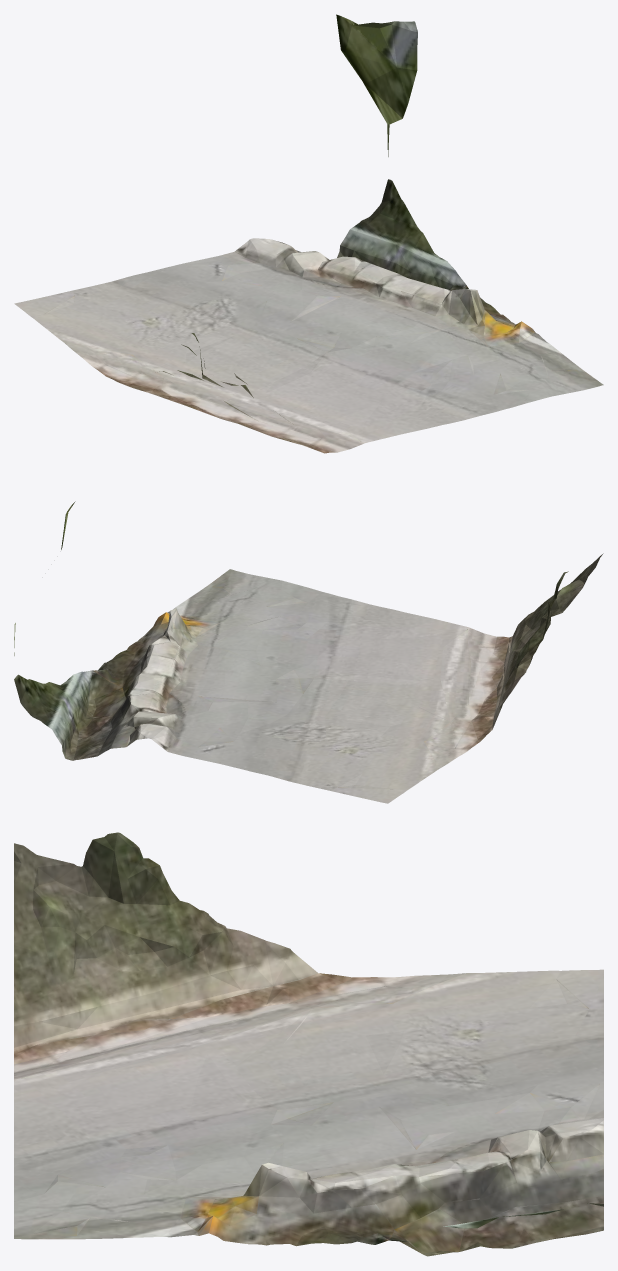
3 renders of one model, top to bottom at view 1: azimuth 30°, elevation 25°; view 2: azimuth 150°, elevation 25°; view 3: azimuth 270°, elevation 25°, orthographic. The views are drawn at different scales.
Size of the model in its own units: 5.9 by 3.73 by 5.9.
3 materials, 3 textured.
